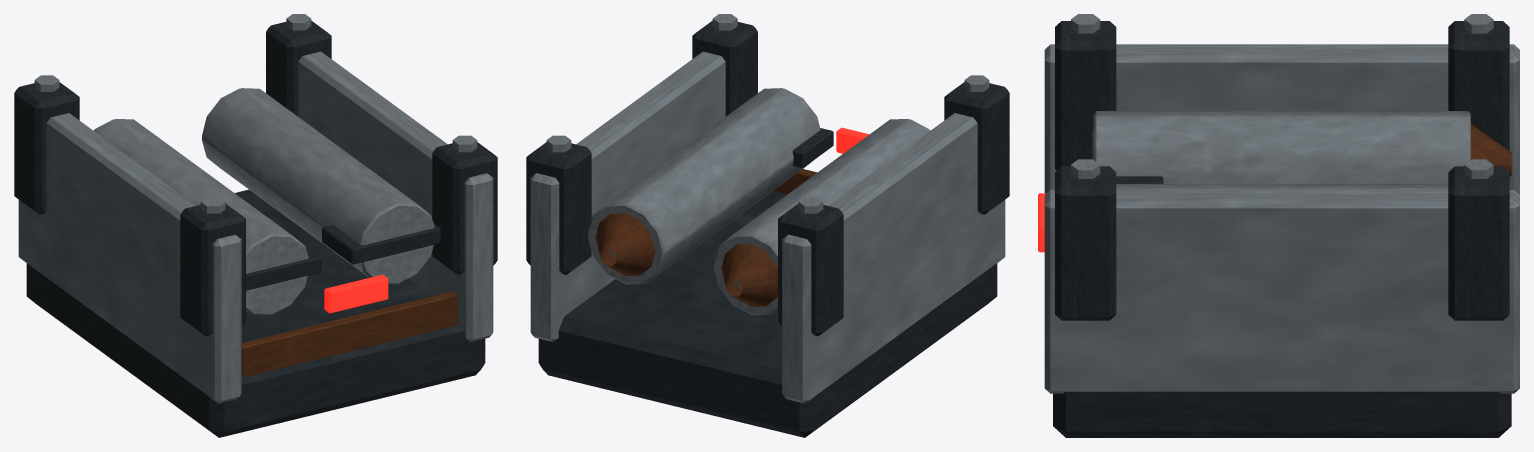
Rendered from missiles.glb.
3 renders of one model, left to right at view 1: azimuth 30°, elevation 25°; view 2: azimuth 150°, elevation 25°; view 3: azimuth 270°, elevation 25°, orthographic. The views are drawn at different scales.
Visible parts, largest first — view 1: missiles_mesh; view 2: missiles_mesh; view 3: missiles_mesh.
Boxes of the visible parts, <box> form: missiles_mesh: <box>14,14,497,437</box>; missiles_mesh: <box>526,14,1009,437</box>; missiles_mesh: <box>1038,14,1519,437</box>.
Size of the model in its own units: 0.495 by 0.366 by 0.588.
2 materials, 1 textured.
